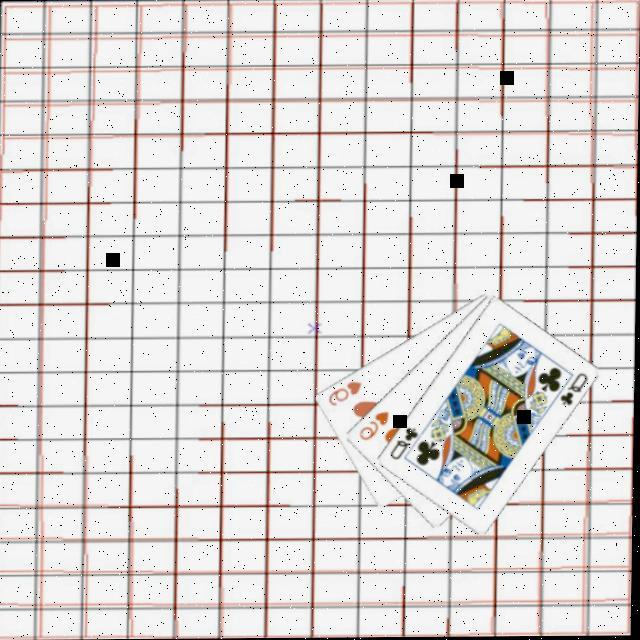6H: (328, 380, 368, 410)
9H: (358, 410, 394, 445)
QC: (560, 371, 594, 410), (390, 426, 424, 464)
